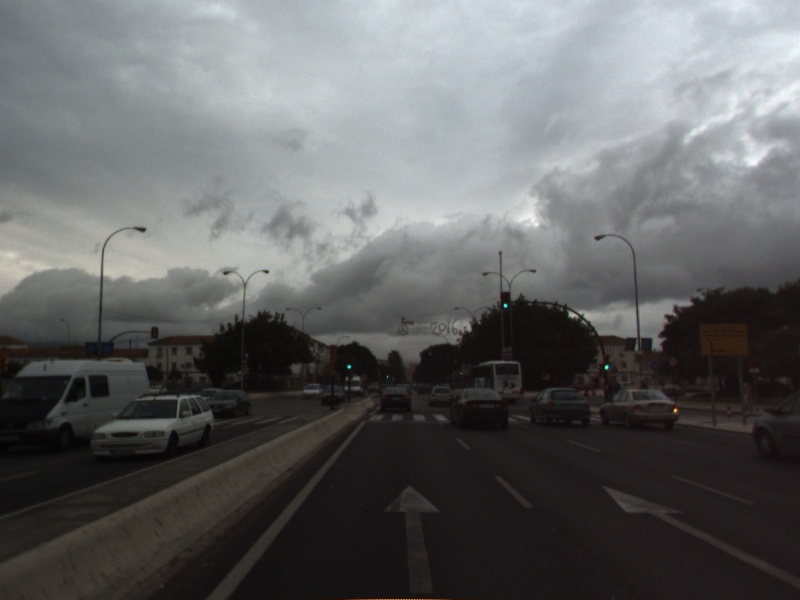STRAIGHT: (600, 484, 800, 589), (380, 482, 444, 596)
